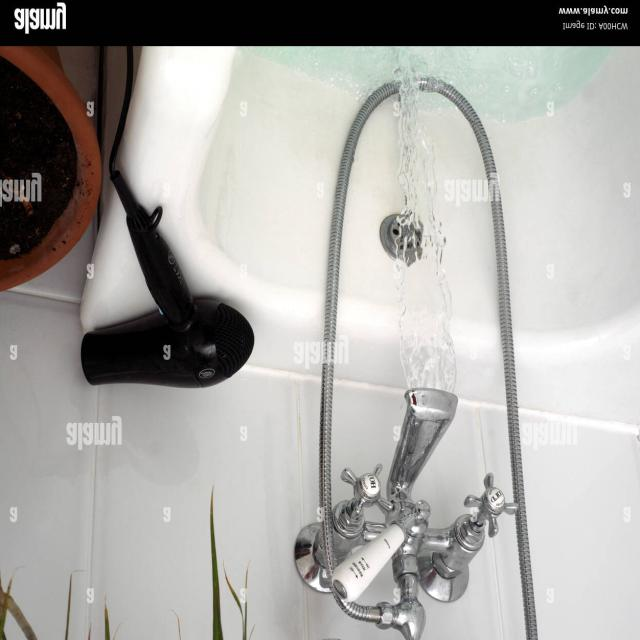dryer: (63, 164, 264, 422)
